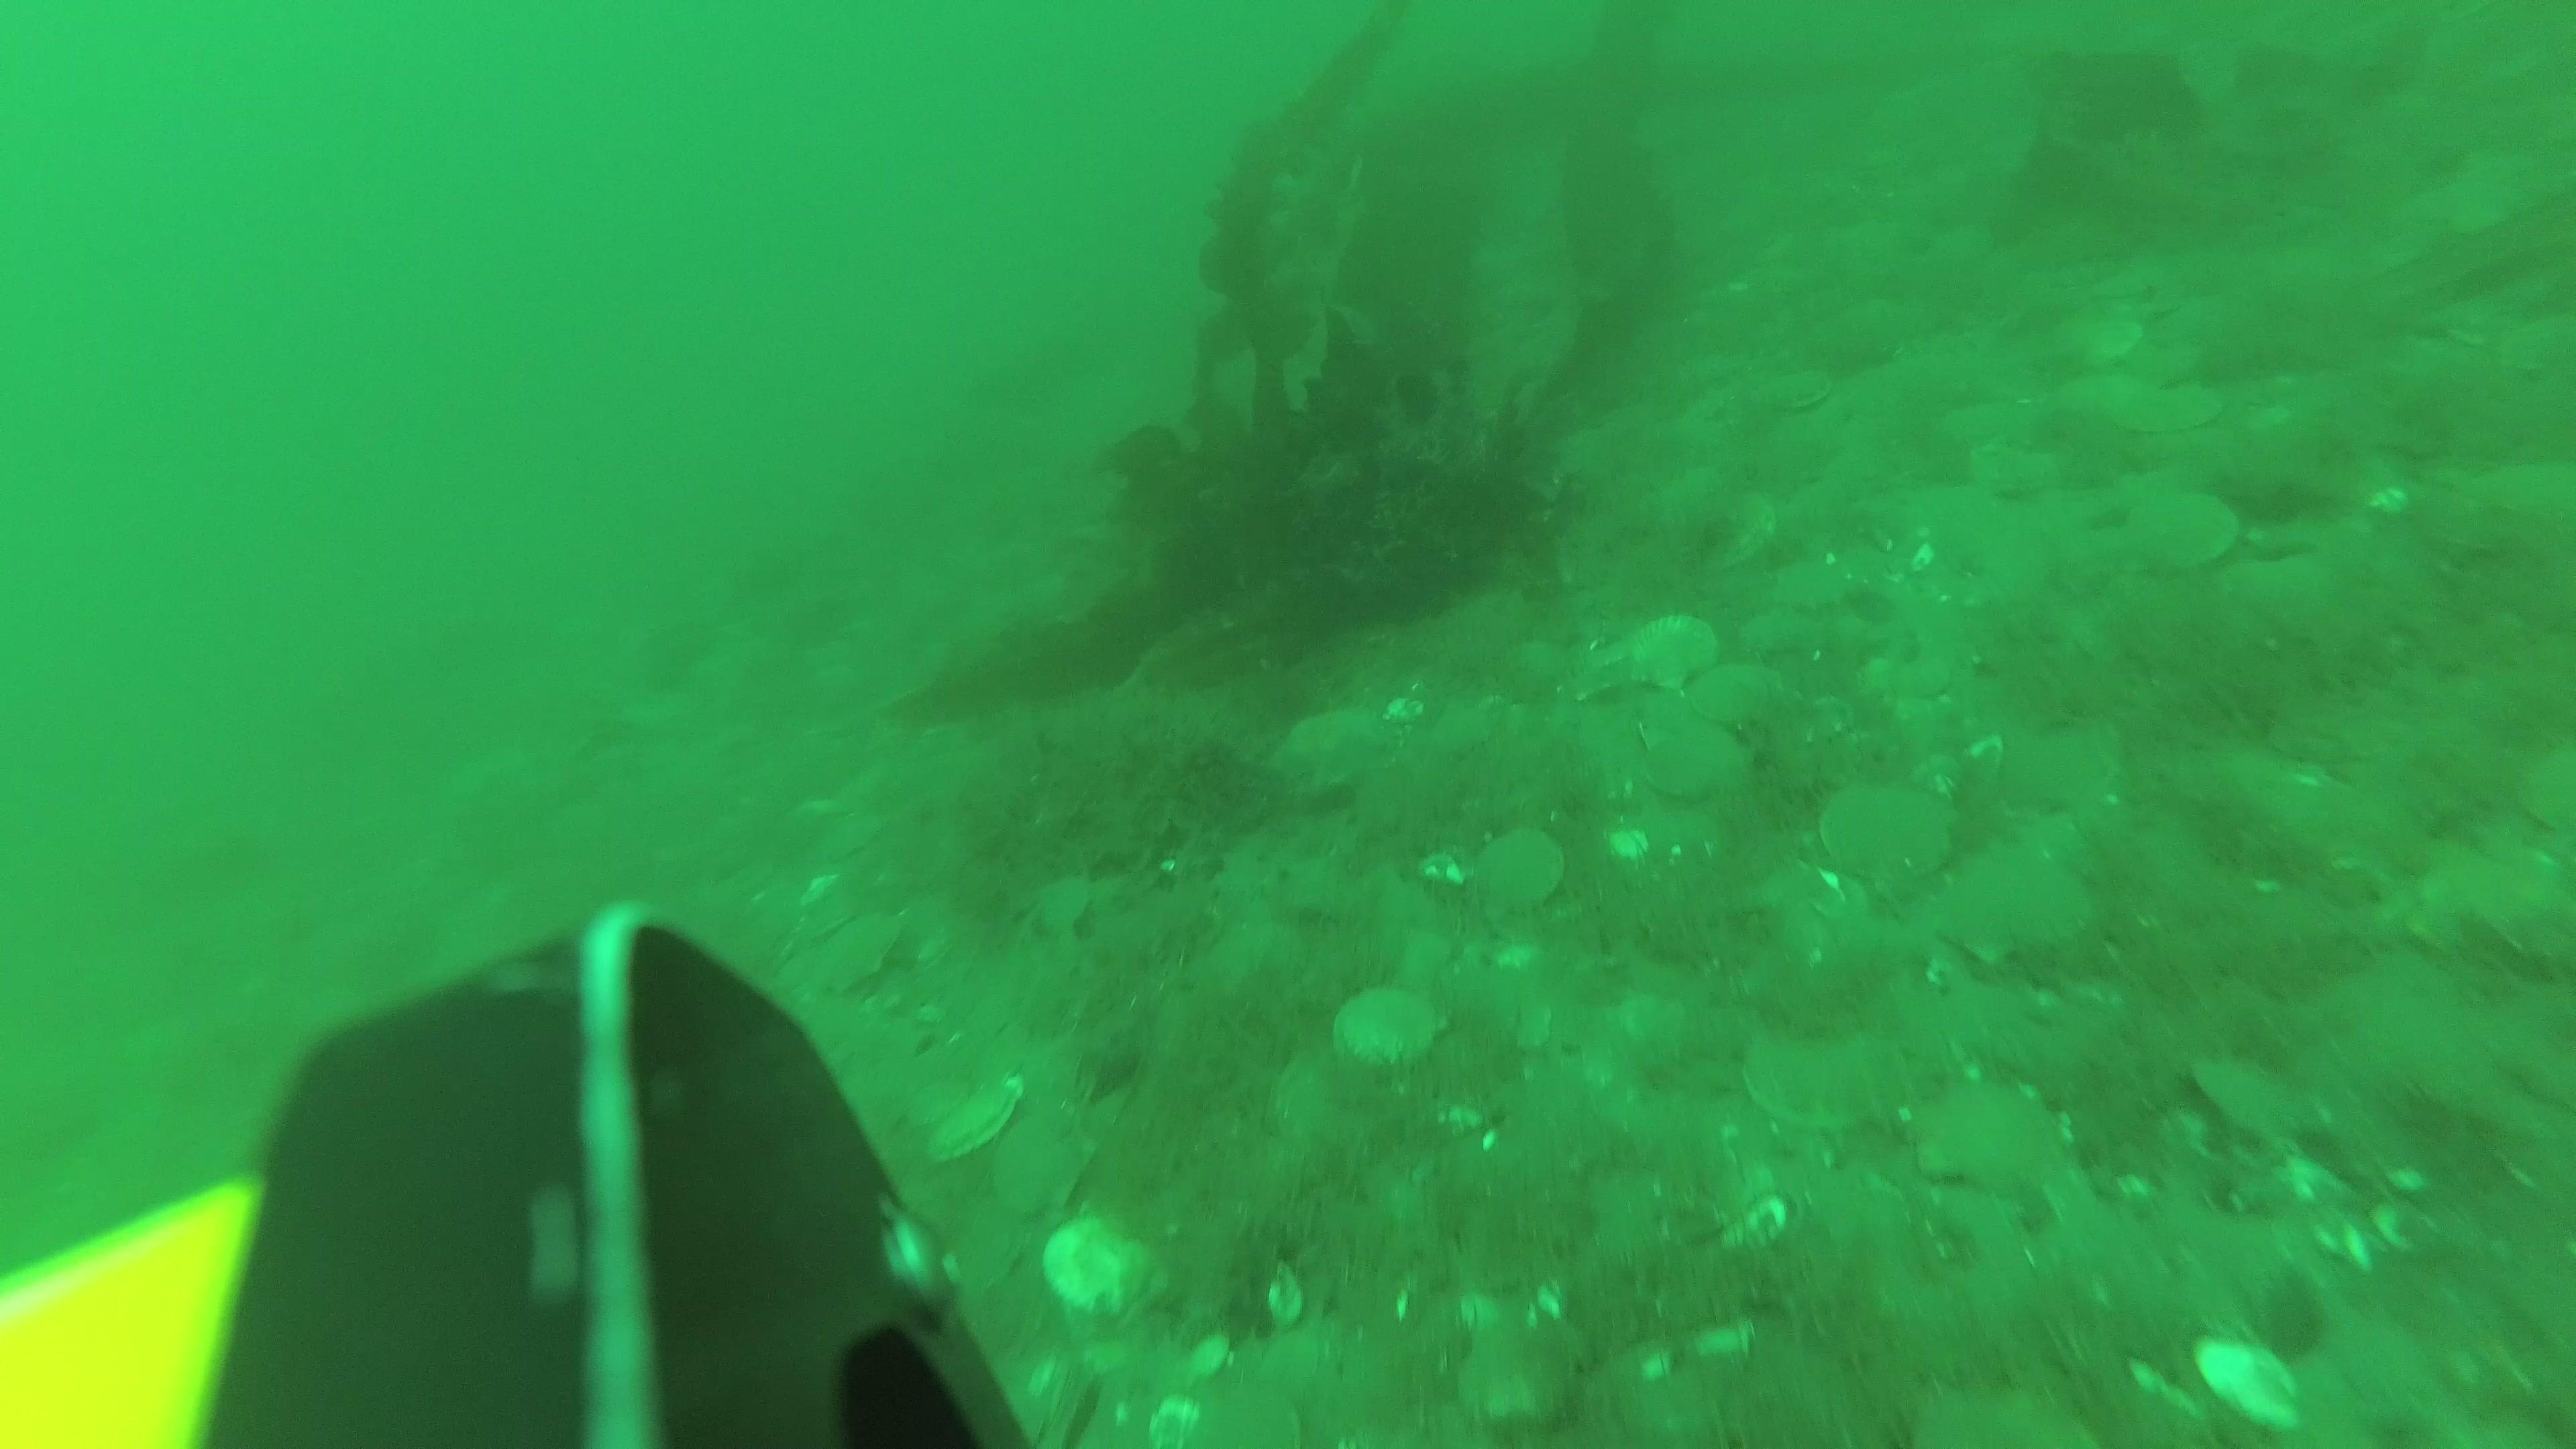scallop: (1905, 1072, 2059, 1189), (1757, 1001, 1898, 1122), (1960, 847, 2086, 968), (2190, 1040, 2312, 1150), (2123, 492, 2245, 587), (1826, 782, 1955, 872), (1155, 1371, 1299, 1449), (1046, 1208, 1148, 1316), (2006, 718, 2128, 809), (993, 1108, 1085, 1224), (1645, 708, 1753, 796), (2197, 1329, 2291, 1428), (1336, 987, 1431, 1076), (934, 1074, 1021, 1162), (1476, 826, 1560, 911), (814, 915, 904, 994), (1638, 616, 1716, 686), (1697, 658, 1773, 725), (1767, 364, 1833, 423)
starfish: (1269, 706, 1410, 809)
